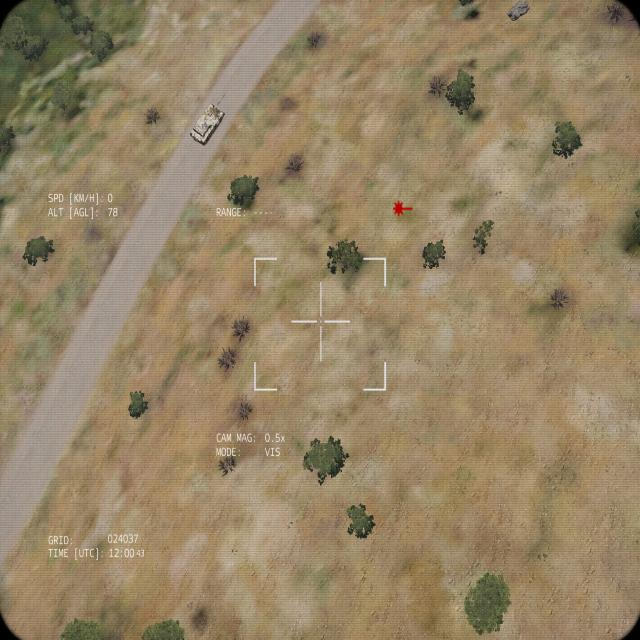tank: (190, 92, 226, 144)
